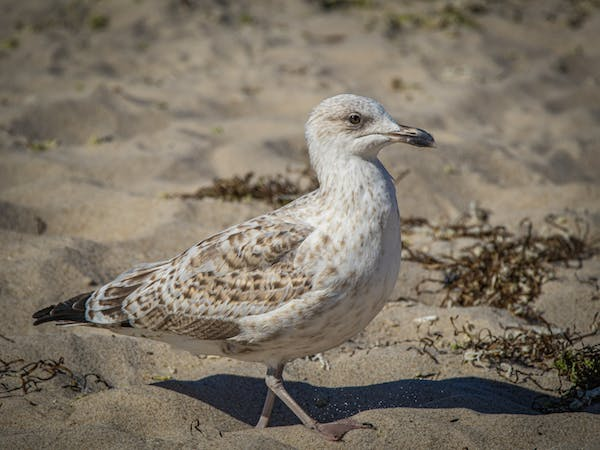Walking: (11, 72, 487, 446)
